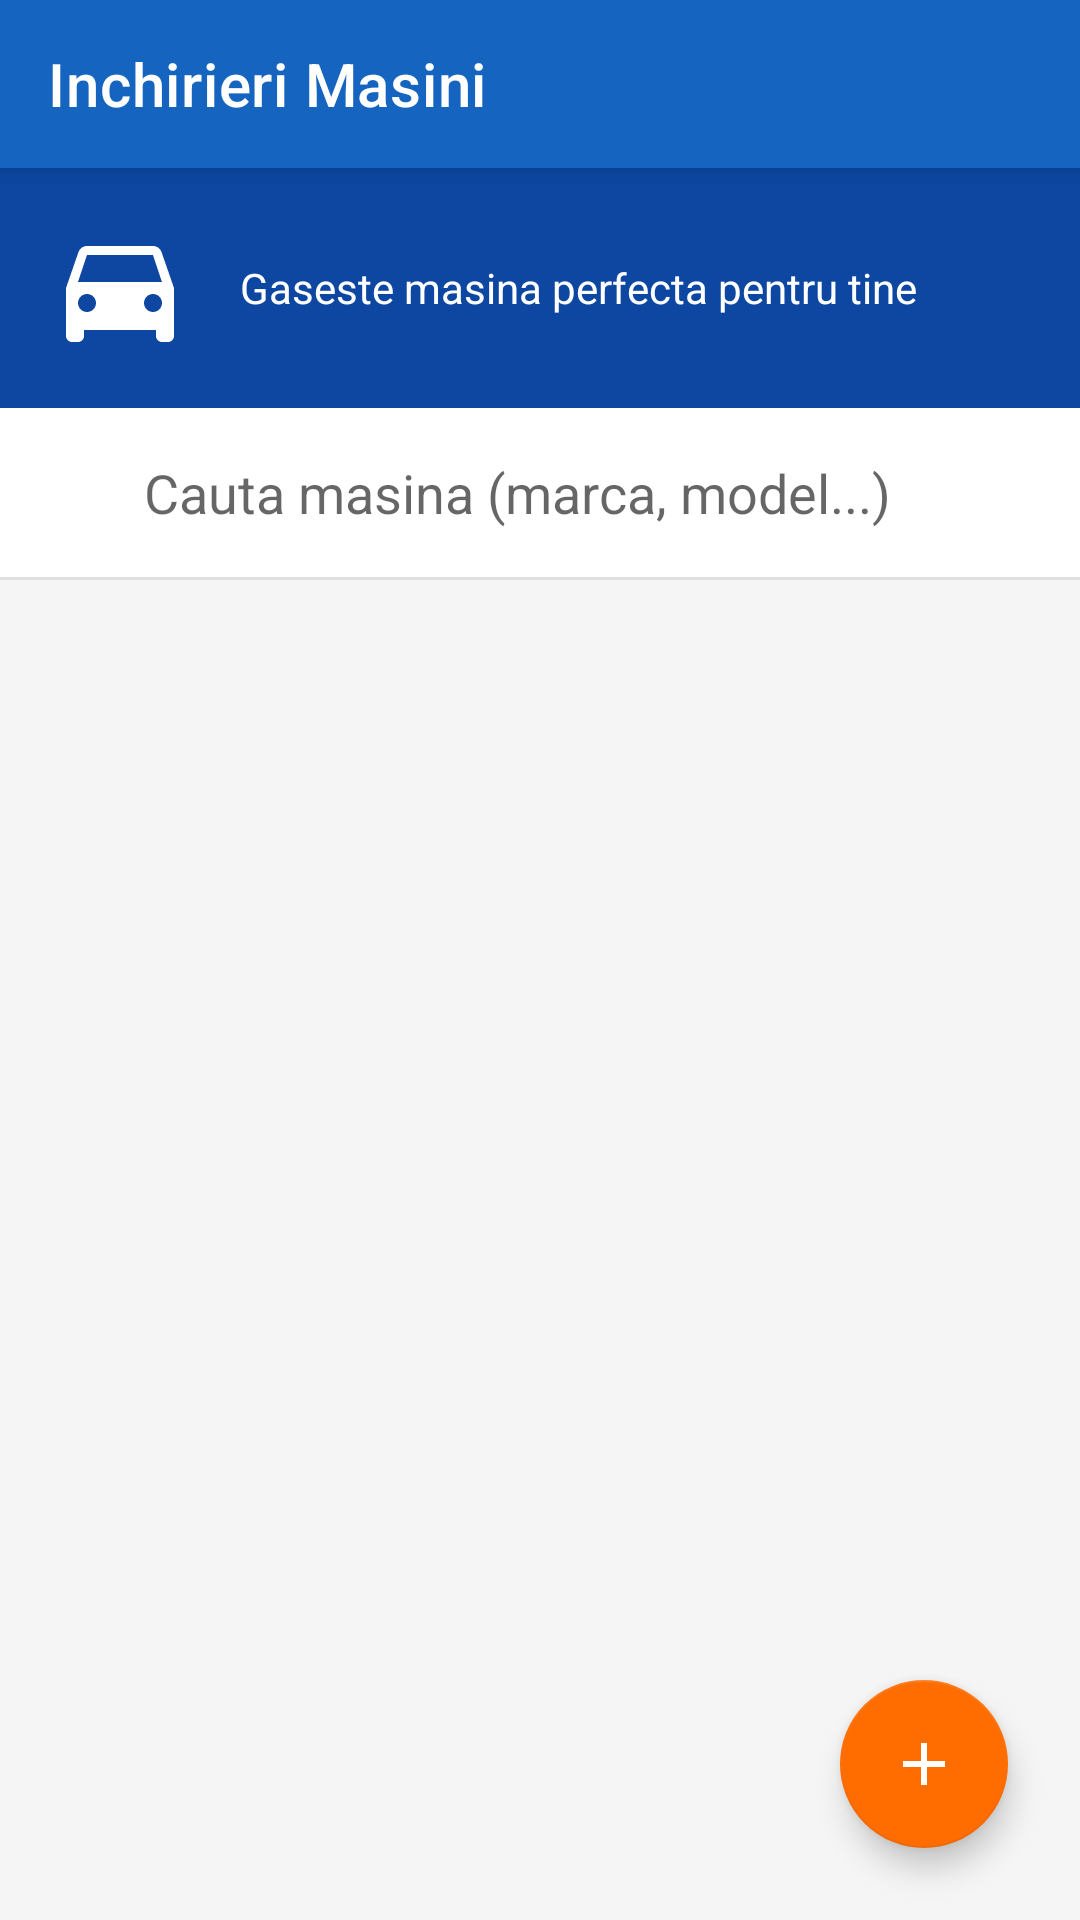

Icons on this 1080 × 1920 Android screen, each with the point to tap as point (x, y):
Adauga masina: point (924, 1764)
